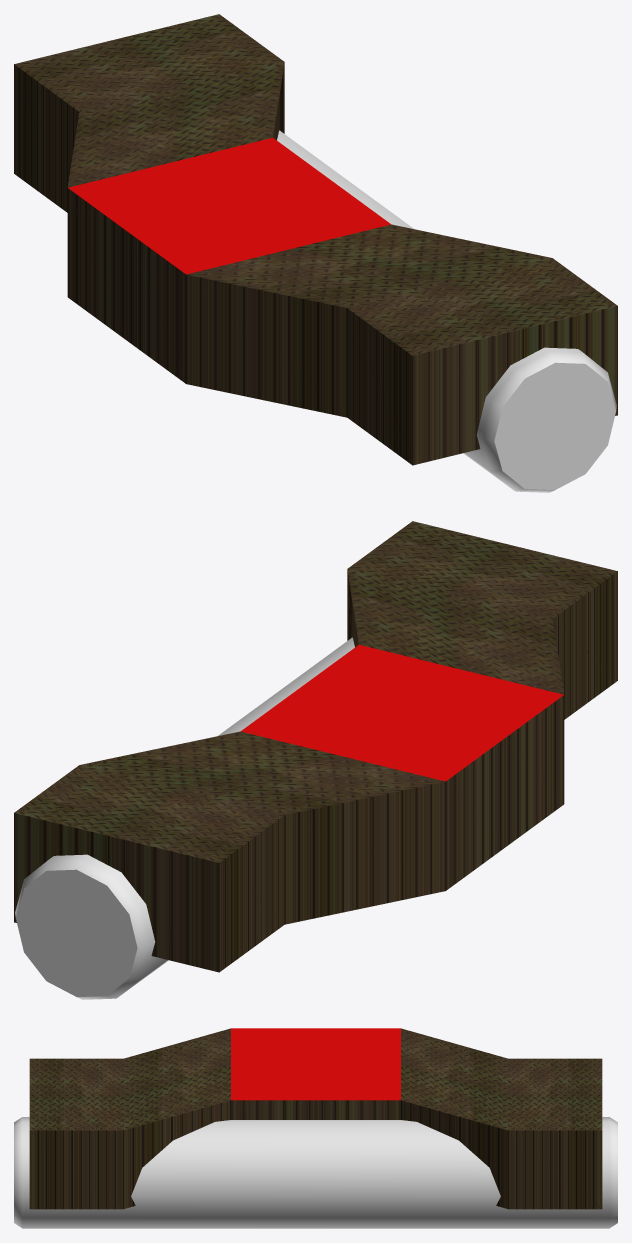
Rendered from block_floor_1_geo.fbx.
3 renders of one model, top to bottom at view 1: azimuth 30°, elevation 25°; view 2: azimuth 150°, elevation 25°; view 3: azimuth 270°, elevation 25°, orthographic. The views are drawn at different scales.
Parts seen in each view (by area): view 1: block_floor_1_geo; view 2: block_floor_1_geo; view 3: block_floor_1_geo.
Boxes of the visible parts, x1=… form: block_floor_1_geo: x1=14, y1=14, x2=617, y2=492; block_floor_1_geo: x1=14, y1=521, x2=617, y2=999; block_floor_1_geo: x1=14, y1=1028, x2=617, y2=1228.
Size of the model in its own units: 530 by 287 by 1323.
